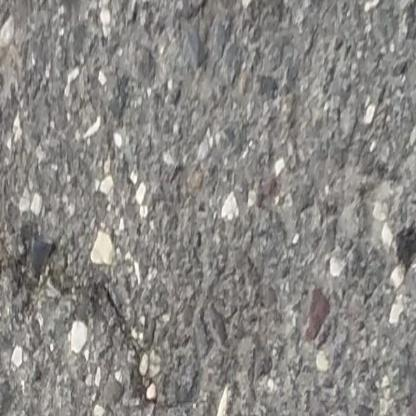Cracks: (0, 213, 147, 395)
